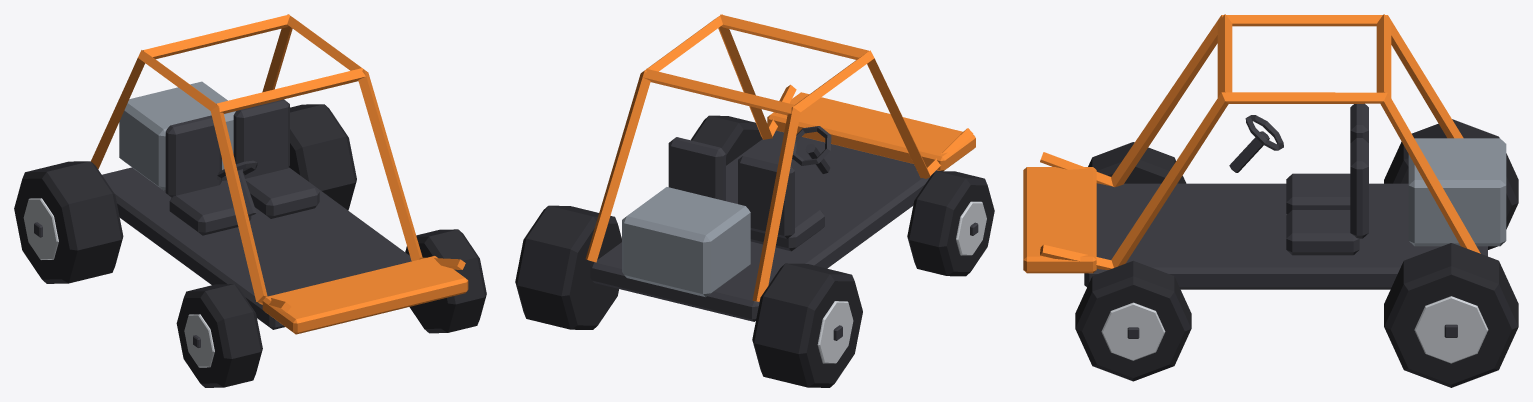
Rendered from DuneBuggy.fbx.
The picture shows the model from 3 angles, left to right: view 1: azimuth 30°, elevation 25°; view 2: azimuth 150°, elevation 25°; view 3: azimuth 270°, elevation 25°; orthographic projection. The views are drawn at different scales.
Visible parts, largest first — view 1: DuneBuggy, DuneBuggy_WheelBR, DuneBuggy_WheelFR, DuneBuggy_WheelBL, DuneBuggy_WheelFL; view 2: DuneBuggy, DuneBuggy_WheelBR, DuneBuggy_WheelBL, DuneBuggy_WheelFR, DuneBuggy_WheelFL; view 3: DuneBuggy, DuneBuggy_WheelBL, DuneBuggy_WheelFL, DuneBuggy_WheelBR, DuneBuggy_WheelFR.
Boxes of the visible parts, bbox=[...] form: DuneBuggy: bbox=[91, 14, 468, 334]; DuneBuggy_WheelBR: bbox=[14, 161, 123, 283]; DuneBuggy_WheelFR: bbox=[176, 284, 262, 387]; DuneBuggy_WheelBL: bbox=[289, 104, 356, 210]; DuneBuggy_WheelFL: bbox=[405, 229, 486, 333]; DuneBuggy: bbox=[585, 14, 975, 321]; DuneBuggy_WheelBR: bbox=[752, 263, 862, 387]; DuneBuggy_WheelBL: bbox=[515, 205, 621, 329]; DuneBuggy_WheelFR: bbox=[907, 171, 994, 276]; DuneBuggy_WheelFL: bbox=[691, 115, 762, 165]; DuneBuggy: bbox=[1023, 14, 1506, 289]; DuneBuggy_WheelBL: bbox=[1384, 243, 1518, 387]; DuneBuggy_WheelFL: bbox=[1075, 260, 1191, 381]; DuneBuggy_WheelBR: bbox=[1384, 119, 1518, 249]; DuneBuggy_WheelFR: bbox=[1088, 142, 1186, 183].
Size of the model in its own units: 6.12 by 4.72 by 8.1.
Materials: 1 (1 with a texture image).
